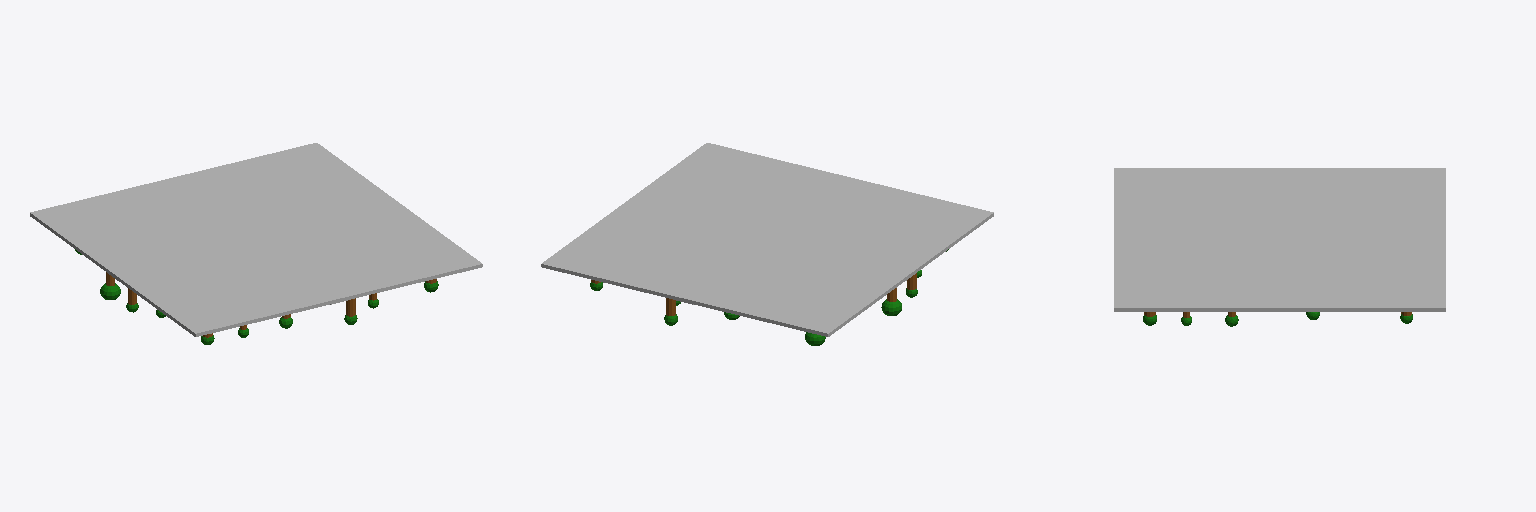
The model's file is parker.obj.
3 views of the same model, side by side, from view 1: azimuth 30°, elevation 25°; view 2: azimuth 150°, elevation 25°; view 3: azimuth 270°, elevation 25° (orthographic).
Parts seen in each view (by area): view 1: Solid1; view 2: Solid1; view 3: Solid1.
Boxes of the visible parts, x1,y1,x2,y2 form: Solid1: [30, 143, 482, 344]; Solid1: [541, 143, 993, 345]; Solid1: [1114, 168, 1445, 326].
Size of the model in its own units: 85.16 by 10.07 by 85.